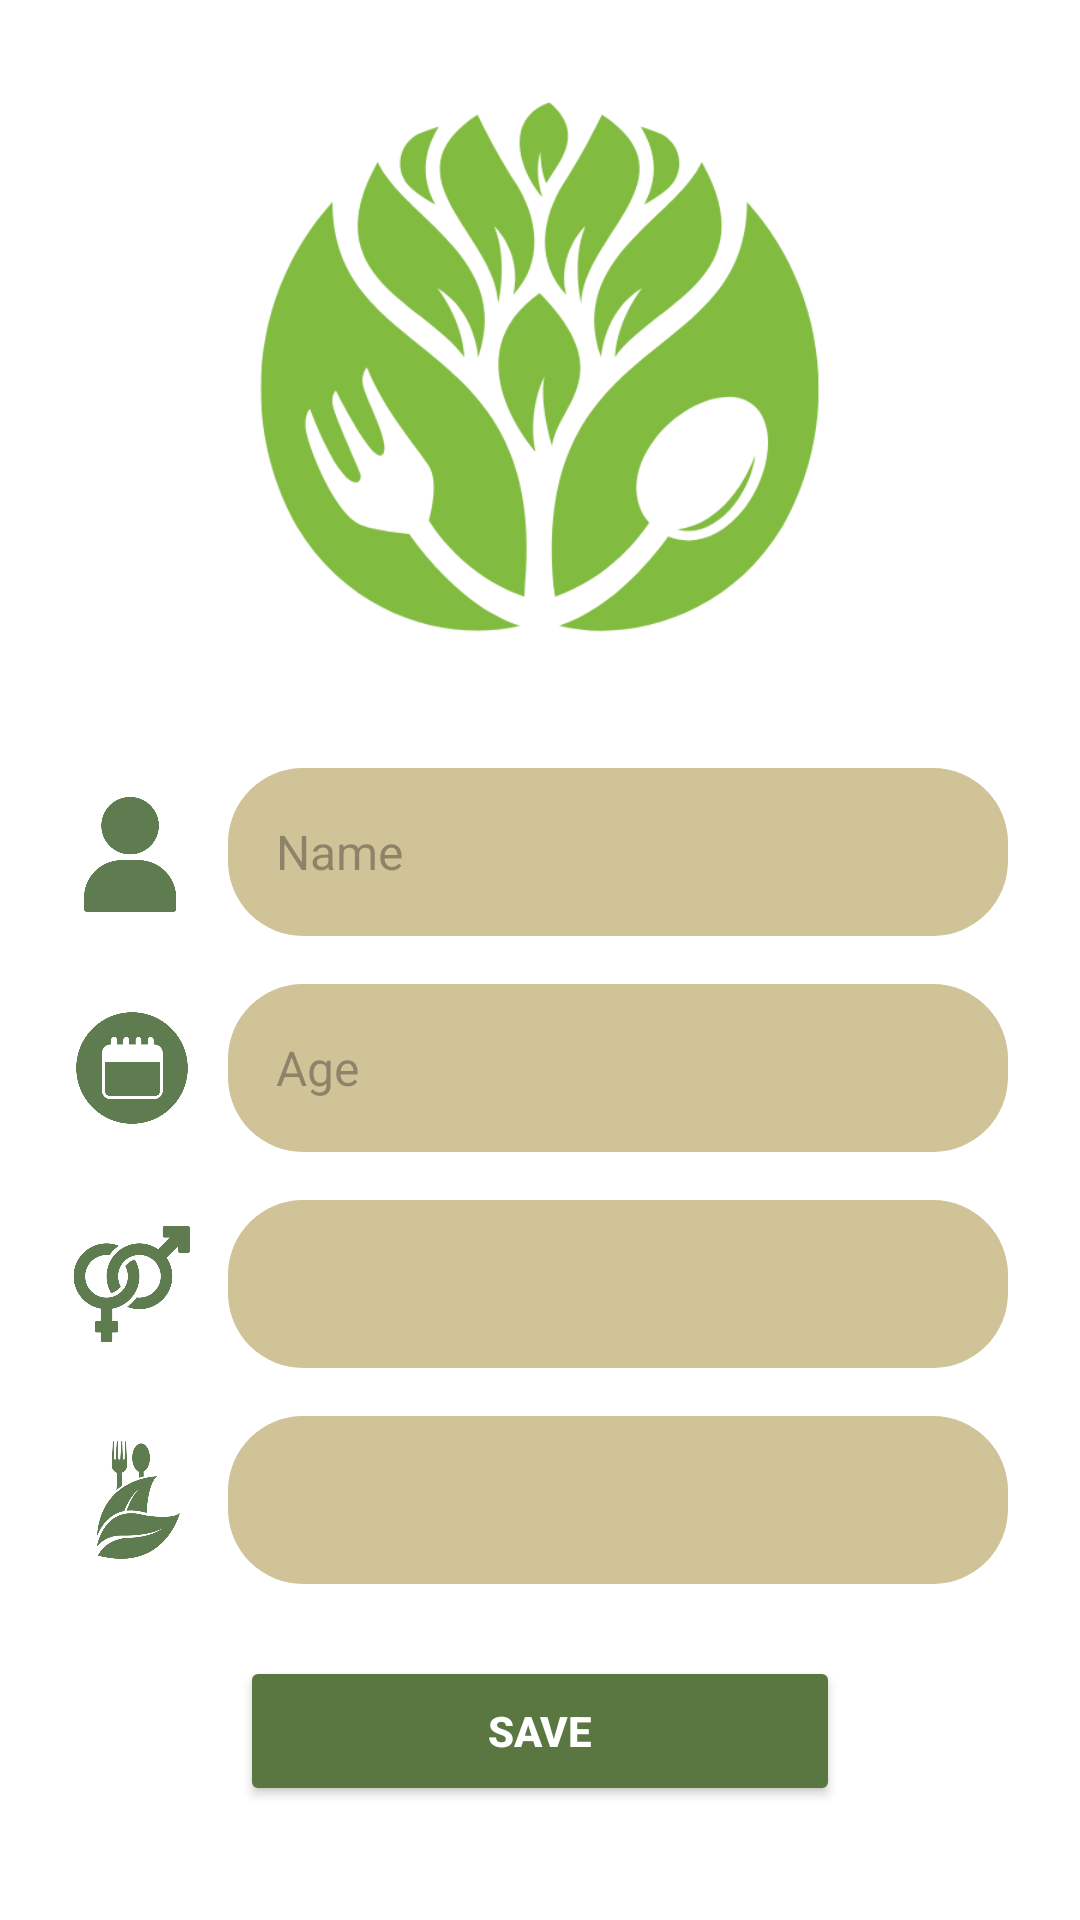

Icon bounding boxes for this 1080x1920 phone screenshot, format (left=x1, top=y1, right=x2, bottom=y2):
Gender Icon: (left=73, top=1226, right=190, bottom=1342)
Preference Icon: (left=97, top=1441, right=180, bottom=1559)
User Icon: (left=84, top=797, right=176, bottom=912)
